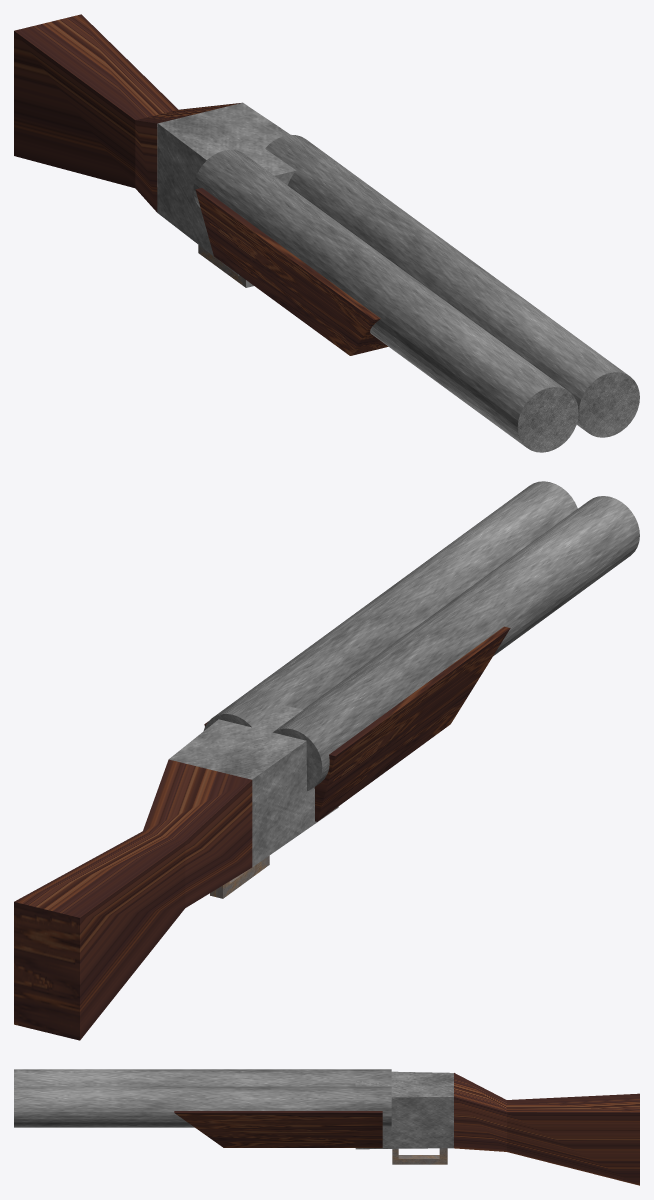
Rendered from shotgun.glb.
The picture shows the model from 3 angles, top to bottom: view 1: azimuth 30°, elevation 25°; view 2: azimuth 150°, elevation 25°; view 3: azimuth 270°, elevation 25°; orthographic projection. The views are drawn at different scales.
Parts seen in each view (by area): view 1: barrels, Cube; view 2: barrels, Cube; view 3: barrels, Cube.
Part boxes in pixels (x1=…): barrels: x1=193, y1=134, x2=639, y2=452; Cube: x1=14, y1=14, x2=296, y2=287; barrels: x1=203, y1=481, x2=639, y2=821; Cube: x1=14, y1=704, x2=338, y2=1040; barrels: x1=14, y1=1069, x2=391, y2=1147; Cube: x1=355, y1=1071, x2=639, y2=1185.
Bounding box in the file's own units: 1.92 × 2.22 × 13.34.
Materials: 4 (4 with a texture image).
